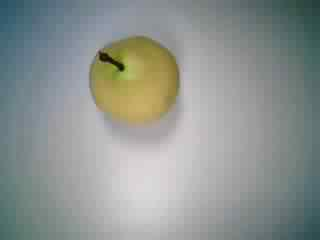pear: (80, 28, 183, 132)
